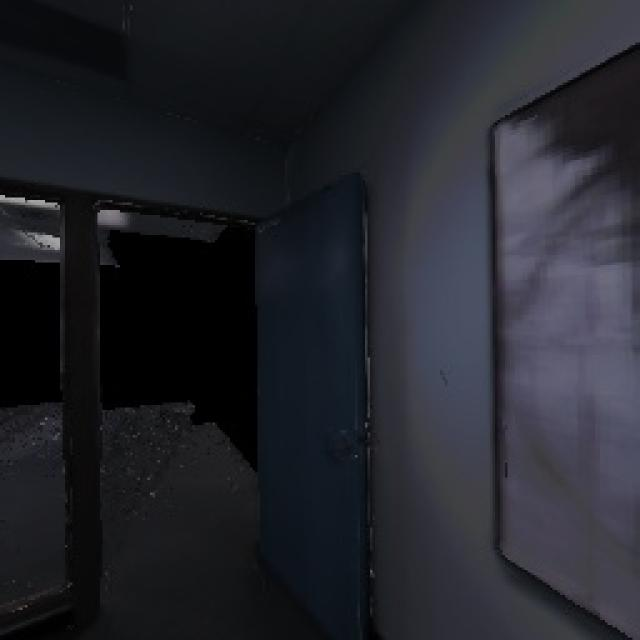door: (237, 172, 396, 640)
door-frame: (62, 178, 288, 640)
